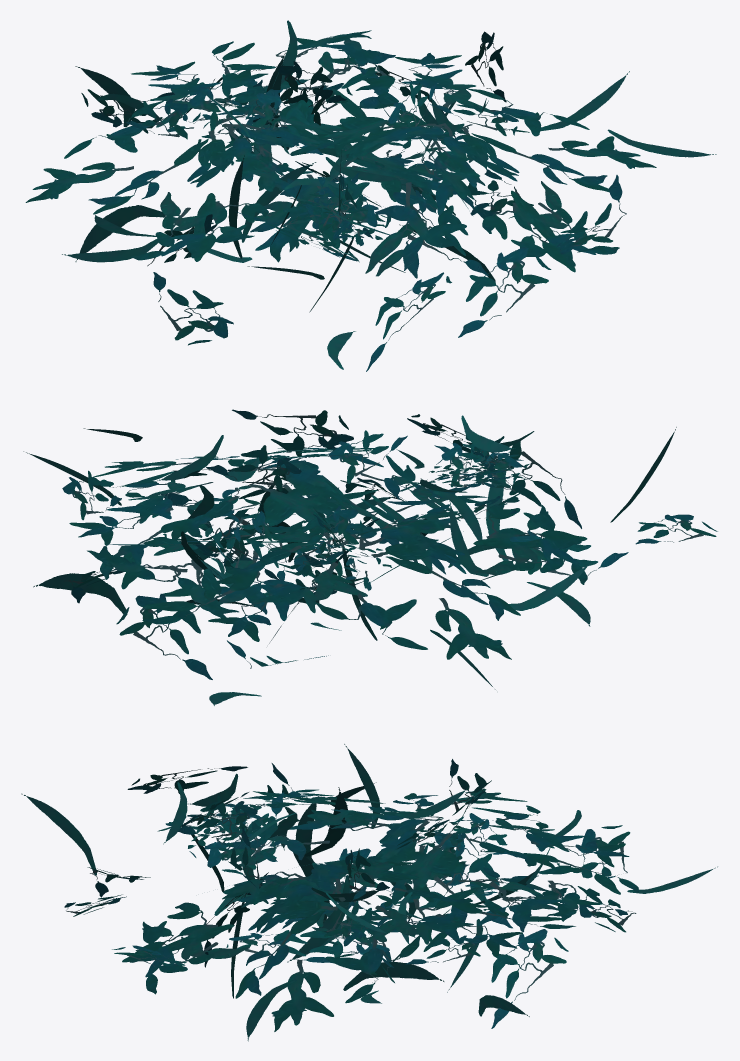
3 renders of one model, top to bottom at view 1: azimuth 30°, elevation 25°; view 2: azimuth 150°, elevation 25°; view 3: azimuth 270°, elevation 25°, orthographic. The views are drawn at different scales.
Parts seen in each view (by area): view 1: SM_BM_Leaf_Piles_01_LOD0; view 2: SM_BM_Leaf_Piles_01_LOD0; view 3: SM_BM_Leaf_Piles_01_LOD0.
Part boxes in pixels (<box>): SM_BM_Leaf_Piles_01_LOD0: <box>25,20,716,371</box>; SM_BM_Leaf_Piles_01_LOD0: <box>23,409,717,705</box>; SM_BM_Leaf_Piles_01_LOD0: <box>21,744,717,1041</box>.
Size of the model in its own units: 1.43 by 0.4064 by 1.57.
Materials: 1 (1 with a texture image).
